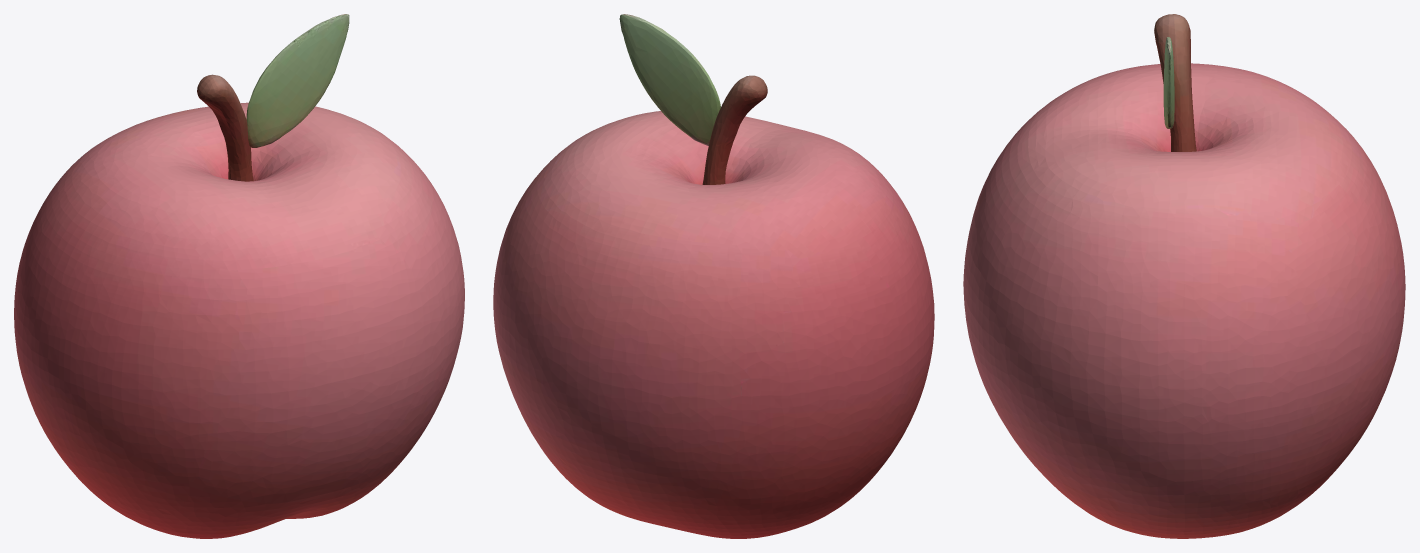
Rendered from apple.glb.
The picture shows the model from 3 angles, left to right: view 1: azimuth 30°, elevation 25°; view 2: azimuth 150°, elevation 25°; view 3: azimuth 270°, elevation 25°; orthographic projection. The views are drawn at different scales.
Parts seen in each view (by area): view 1: geometry_0; view 2: geometry_0; view 3: geometry_0.
Boxes of the visible parts, left/top/right/bottom form: geometry_0: left=14, top=14, right=464, bottom=538; geometry_0: left=493, top=14, right=934, bottom=538; geometry_0: left=963, top=14, right=1405, bottom=538.
Bounding box in the file's own units: 0.8824 × 0.9997 × 0.7986.
Materials: 1 (1 with a texture image).
